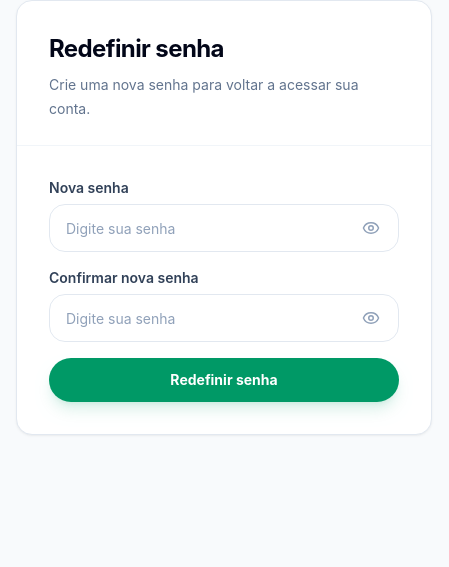
it: recuperação de senha › mostra erro do backend e mantém o formulário para nova tentativa
This screenshot has width=449, height=567.
In the password field labelled "Nova senha": (224, 228) [49,204,399,252], type "segredo1"
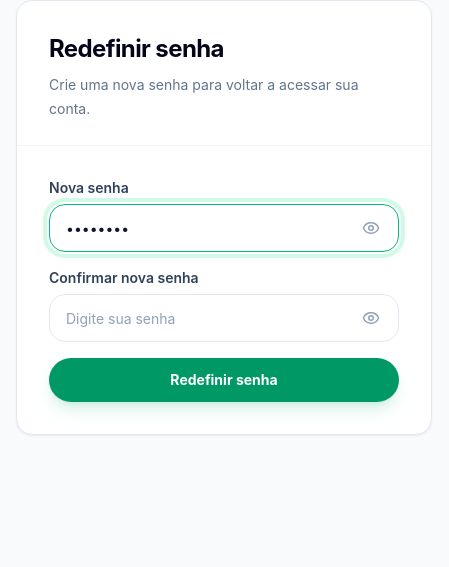
In the password field labelled "Confirmar nova senha": (224, 318) [49,294,399,342], type "segredo1"
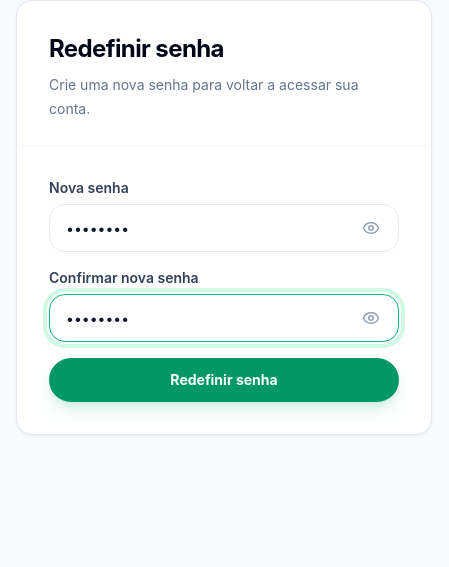
Click the button "Redefinir senha": (224, 380) [49,358,399,402]
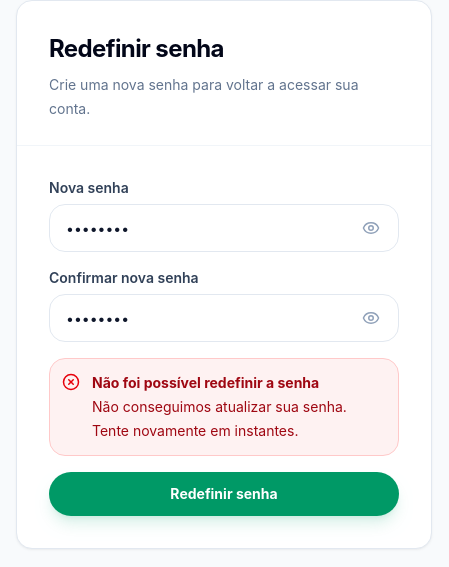
Result: the text "Não foi possível redefinir a senha" is shown at [92,374,319,391]
